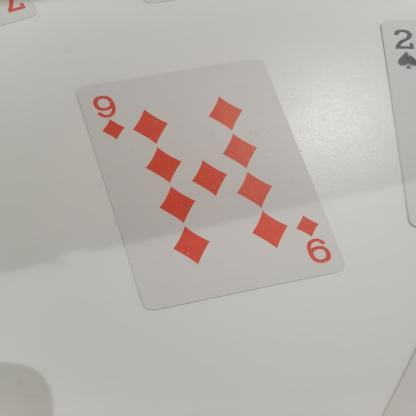9D: (78, 86, 135, 141), (290, 206, 336, 268)
